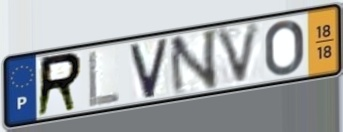L: (86, 48, 122, 110)
N: (167, 26, 221, 99)
O: (262, 18, 306, 79)
R: (34, 50, 84, 121)
V: (212, 18, 264, 90), (127, 36, 171, 102)
